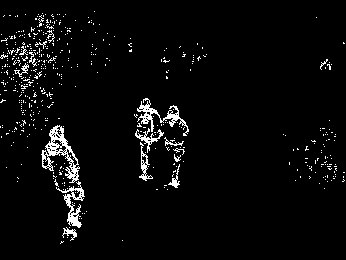person: (40, 124, 87, 242), (157, 103, 190, 189), (133, 96, 162, 181)
